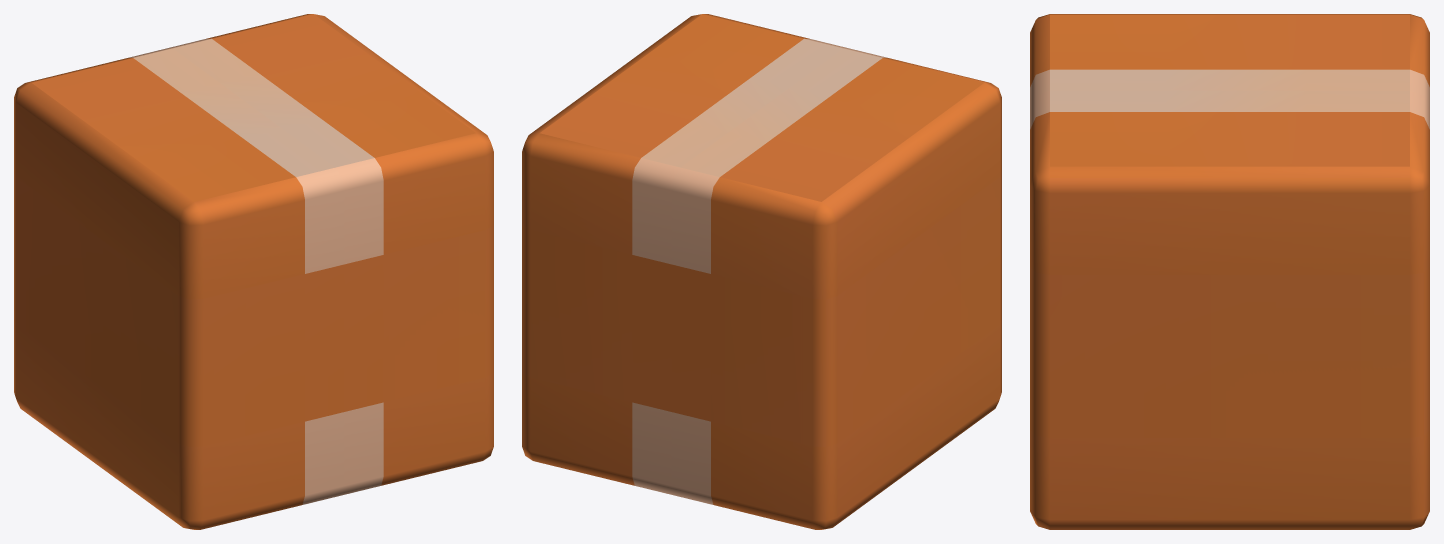
The picture shows the model from 3 angles, left to right: view 1: azimuth 30°, elevation 25°; view 2: azimuth 150°, elevation 25°; view 3: azimuth 270°, elevation 25°; orthographic projection. The views are drawn at different scales.
Parts seen in each view (by area): view 1: polySurface307, polySurface305, polySurface306; view 2: polySurface307, polySurface305, polySurface306; view 3: polySurface307, polySurface305, polySurface306.
Boxes of the visible parts, x1=… form: polySurface307: x1=14, y1=14, x2=493, y2=529; polySurface305: x1=32, y1=48, x2=334, y2=201; polySurface306: x1=173, y1=14, x2=475, y2=167; polySurface307: x1=522, y1=14, x2=1001, y2=529; polySurface305: x1=681, y1=48, x2=983, y2=201; polySurface306: x1=540, y1=14, x2=842, y2=167; polySurface307: x1=1030, y1=14, x2=1429, y2=529; polySurface305: x1=1050, y1=14, x2=1409, y2=90; polySurface306: x1=1050, y1=90, x2=1409, y2=166.
Bounding box in the file's own units: 126 × 126 × 126.
